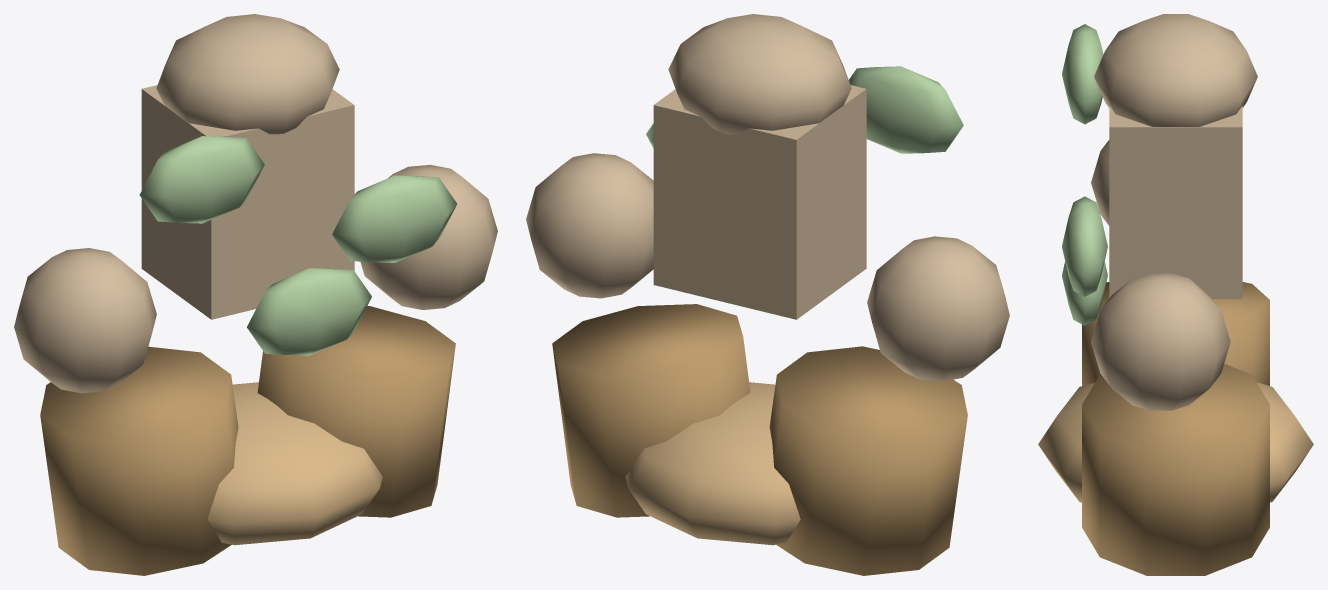
File: stone_fist_grown.fbx
3 views of the same model, side by side, from view 1: azimuth 30°, elevation 25°; view 2: azimuth 150°, elevation 25°; view 3: azimuth 270°, elevation 25° (orthographic). The views are drawn at different scales.
Parts seen in each view (by area): view 1: PLQ_stone_fist_grown; view 2: PLQ_stone_fist_grown; view 3: PLQ_stone_fist_grown.
Boxes of the visible parts, x1,y1,x2,y2 form: PLQ_stone_fist_grown: (14,14,497,575); PLQ_stone_fist_grown: (526,14,1009,575); PLQ_stone_fist_grown: (1038,14,1313,575).
Size of the model in its own units: 100 by 103 by 54.43.
